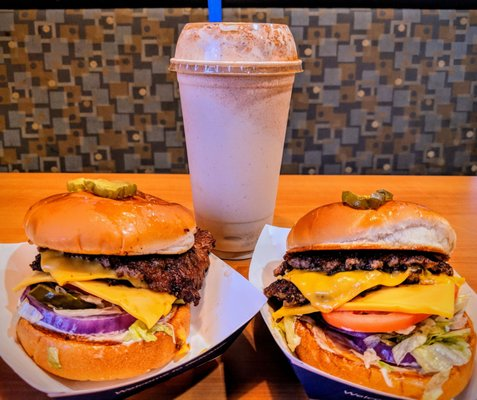soup: (264, 196, 473, 398), (8, 178, 214, 382)
